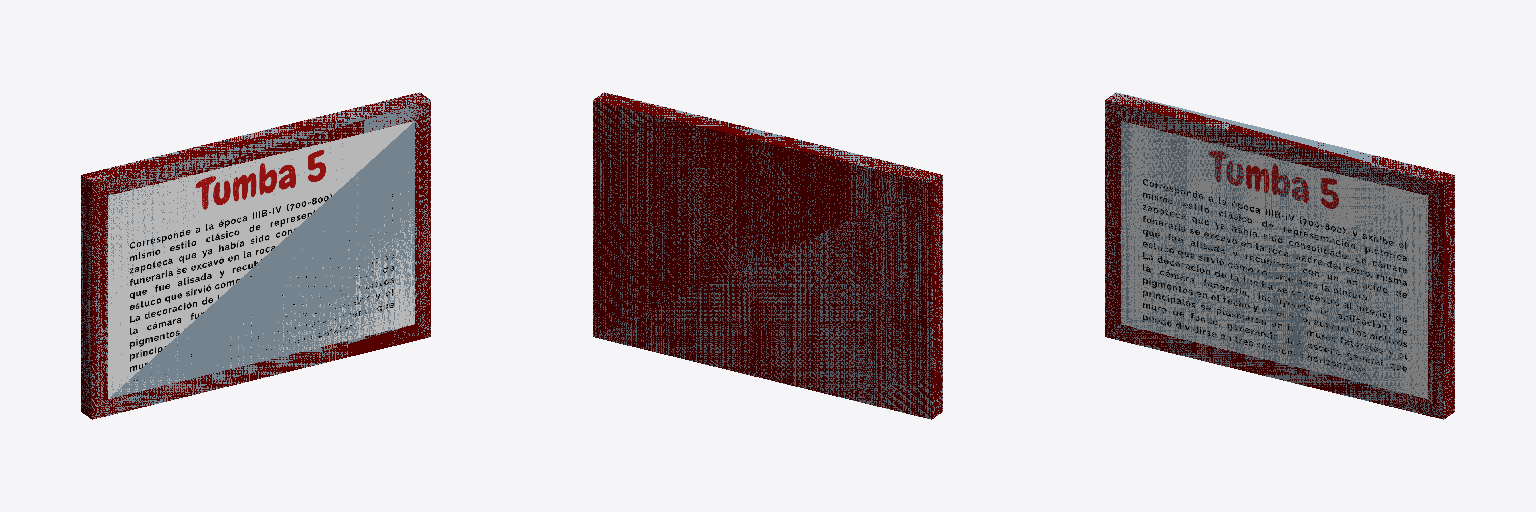
3 views of the same model, side by side, from view 1: azimuth 30°, elevation 25°; view 2: azimuth 150°, elevation 25°; view 3: azimuth 330°, elevation 25° (orthographic).
Visible parts, largest first — view 1: Mesh1 Model; view 2: Mesh1 Model; view 3: Mesh1 Model.
Part boxes in pixels (x1,y1,x2,y2): Mesh1 Model: (81, 92, 430, 419); Mesh1 Model: (593, 92, 942, 419); Mesh1 Model: (1105, 92, 1454, 419).
Bounding box in the file's own units: 99.5 × 66.44 × 5.62.
Materials: 3 (1 with a texture image).